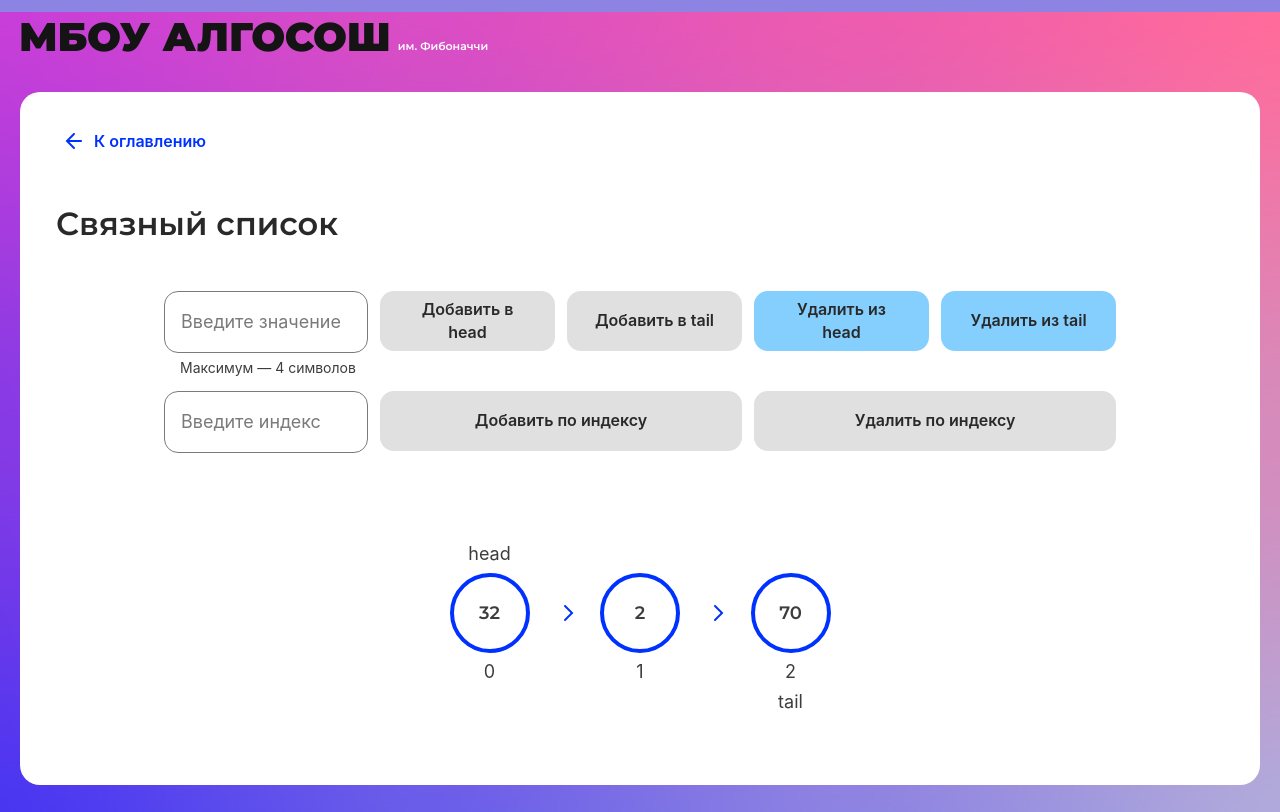
Проверка работы страницы списка: › удаление элемента из tail
The image size is (1280, 812).
Expected: the element with test id "delT" is enabled
Click the button with test id "delT": (1029, 321) [941,291,1116,351]
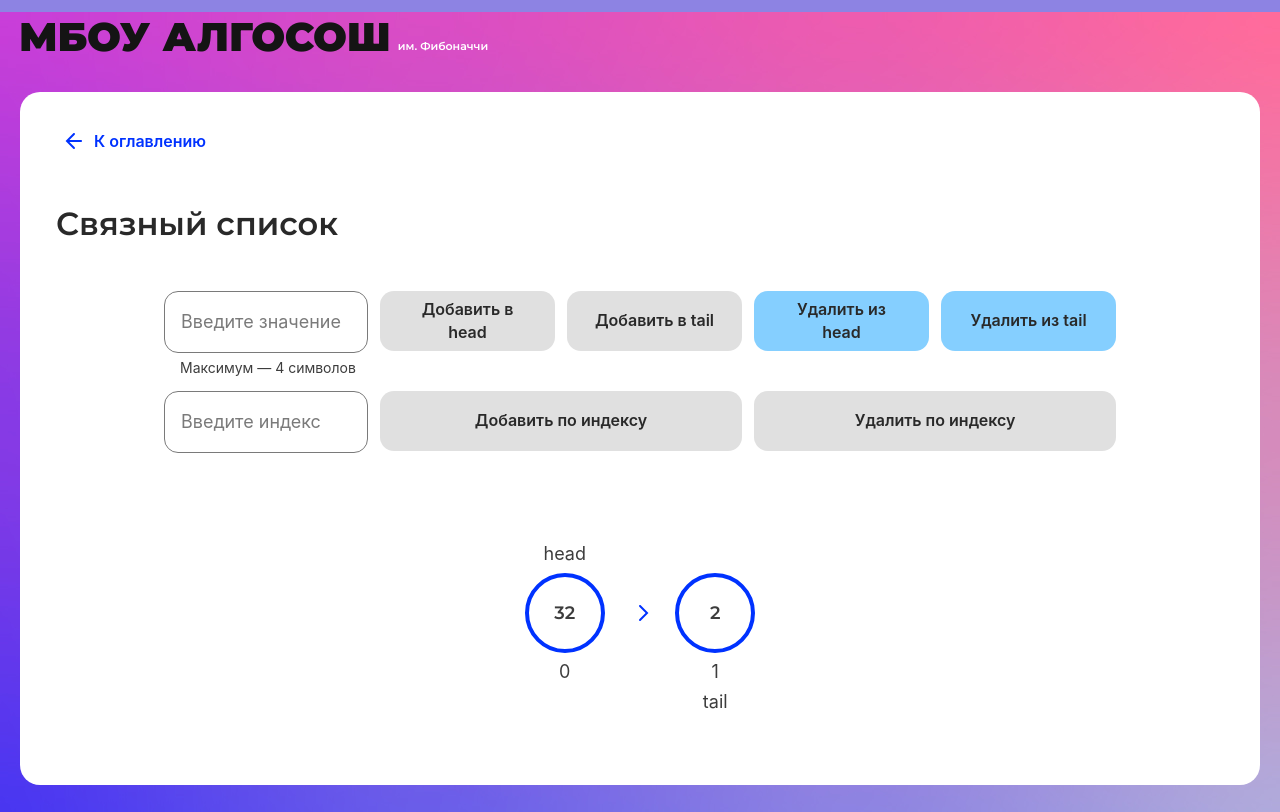
Expected: the number of elements with test id "circle" is 2, [525,573,605,653]; [675,573,755,653]
